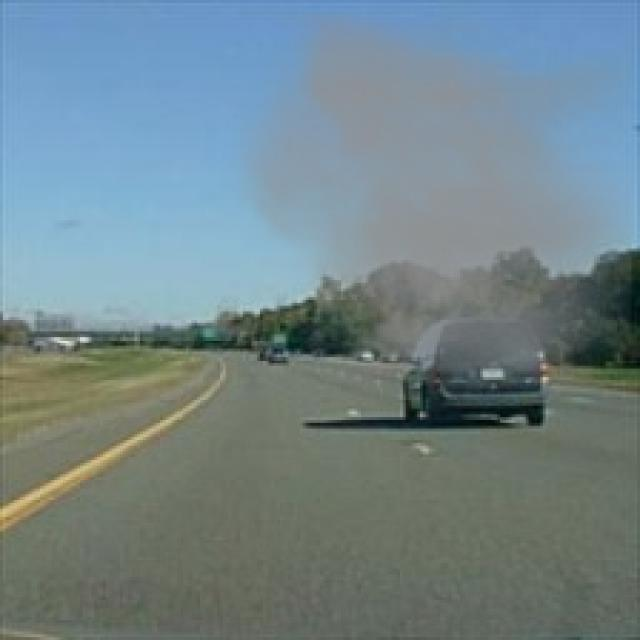smoke: (220, 14, 631, 397)
